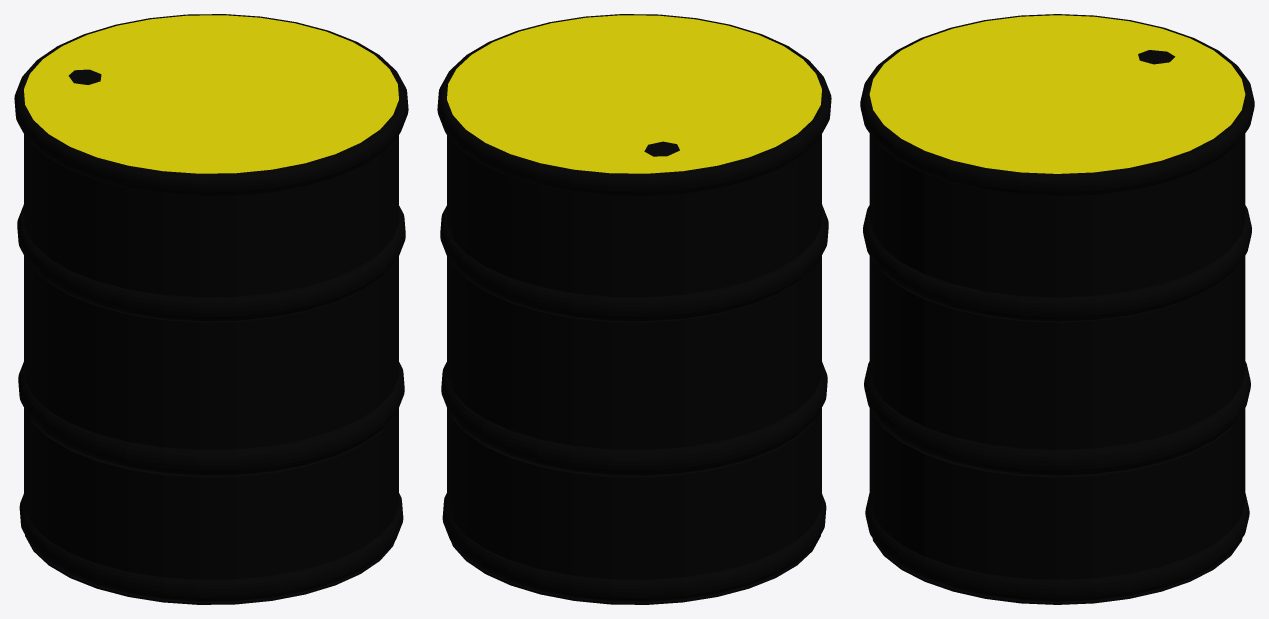
File: barrel.fbx
3 views of the same model, side by side, from view 1: azimuth 30°, elevation 25°; view 2: azimuth 150°, elevation 25°; view 3: azimuth 270°, elevation 25° (orthographic).
Parts seen in each view (by area): view 1: Cylinder; view 2: Cylinder; view 3: Cylinder.
Boxes of the visible parts, x1,y1,x2,y2 form: Cylinder: [14, 14, 408, 604]; Cylinder: [437, 14, 831, 604]; Cylinder: [860, 14, 1254, 604].
Size of the model in its own units: 210 by 210 by 253.
